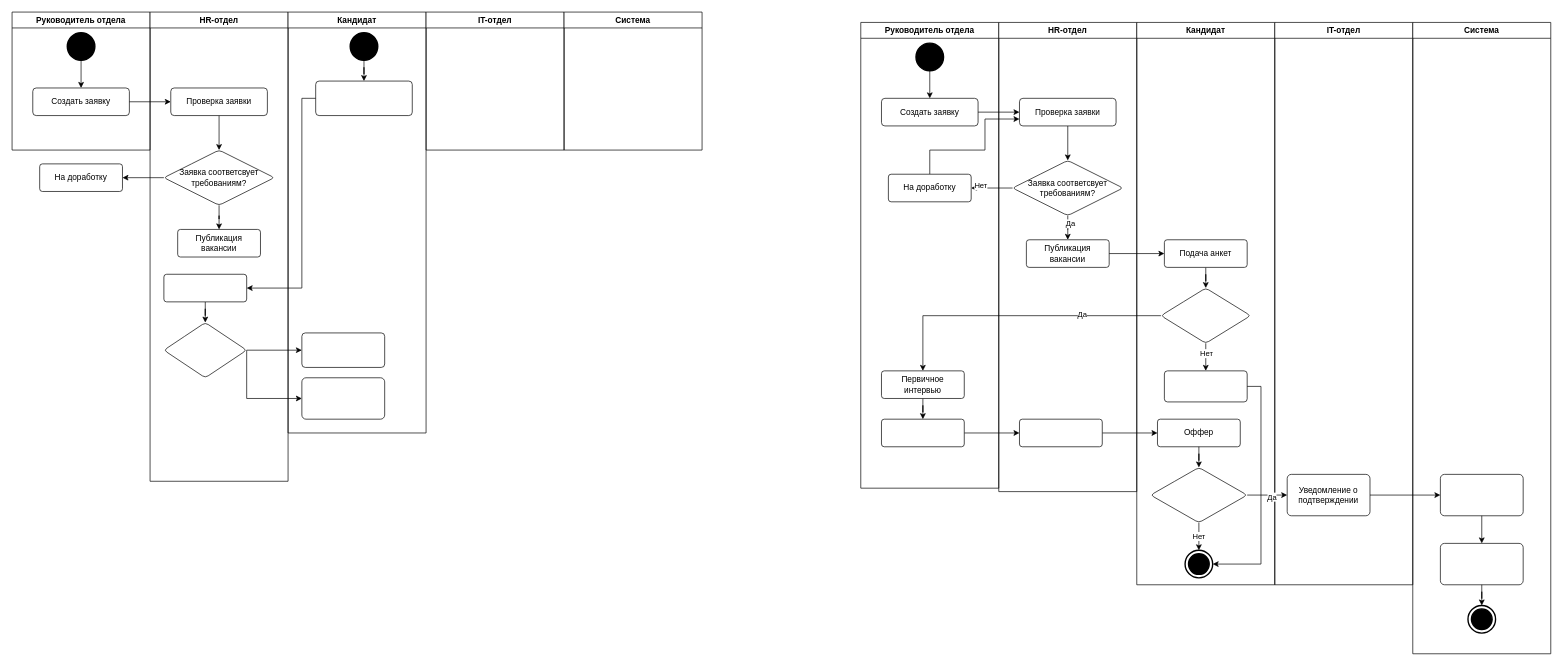
This 1563x666 diagram has some shape labels left out. The centre of each missing label's shape, as x and y in pixels:
"Добавление в БД" belongs at pixel 1481 564.
"Заполнение анкеты" belongs at pixel 363 98.
"Настройка рабочего места" belongs at pixel 1481 495.
"Подтверждает ли оффер?" belongs at pixel 1198 495.
"Подходит ли анкета" belongs at pixel 205 350.
"Подходит ли анкеты" belongs at pixel 1205 315.
"Проверка анкеты" belongs at pixel 205 288.
"Тех собес" belongs at pixel 922 432.
"Уведом о отказе" belongs at pixel 343 349.
"Уведом о приглашении" belongs at pixel 343 398.
"Уведом об отказе" belongs at pixel 1205 386.
"Успешное собес" belongs at pixel 1060 432.
